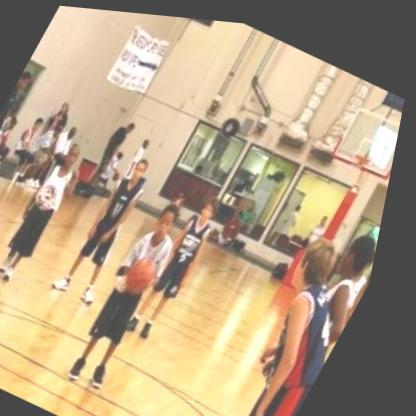basketball: (126, 246, 179, 301)
